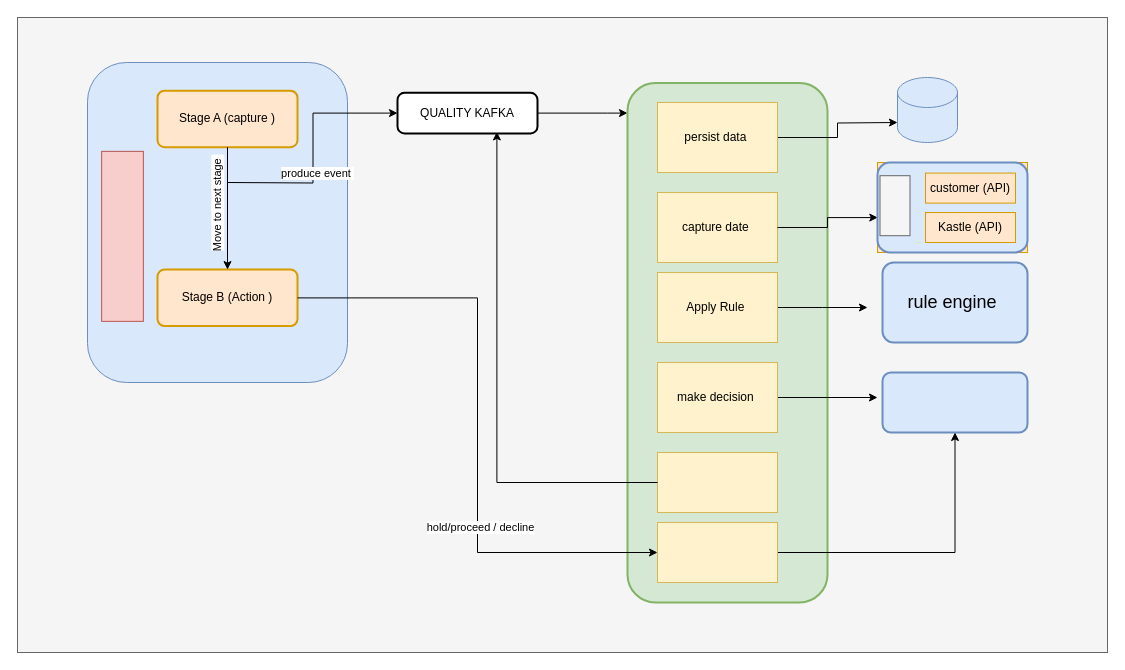
This 1125x670 diagram has some shape labels left out. The shapes that lost their labels are listed below. From the top down, each one's centre as x and y in pixels, then its label:
At point (894, 205): "adapters".
At point (122, 235): "Work Flow Engine".
At point (954, 402): "Decision engine".
At point (717, 482): "handle failer rety".
At point (717, 552): "get decision result".
